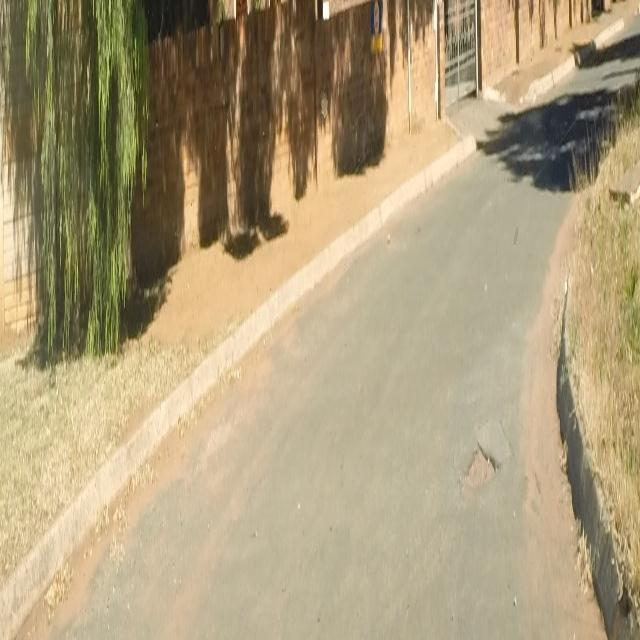pothole: (465, 430, 495, 491)
